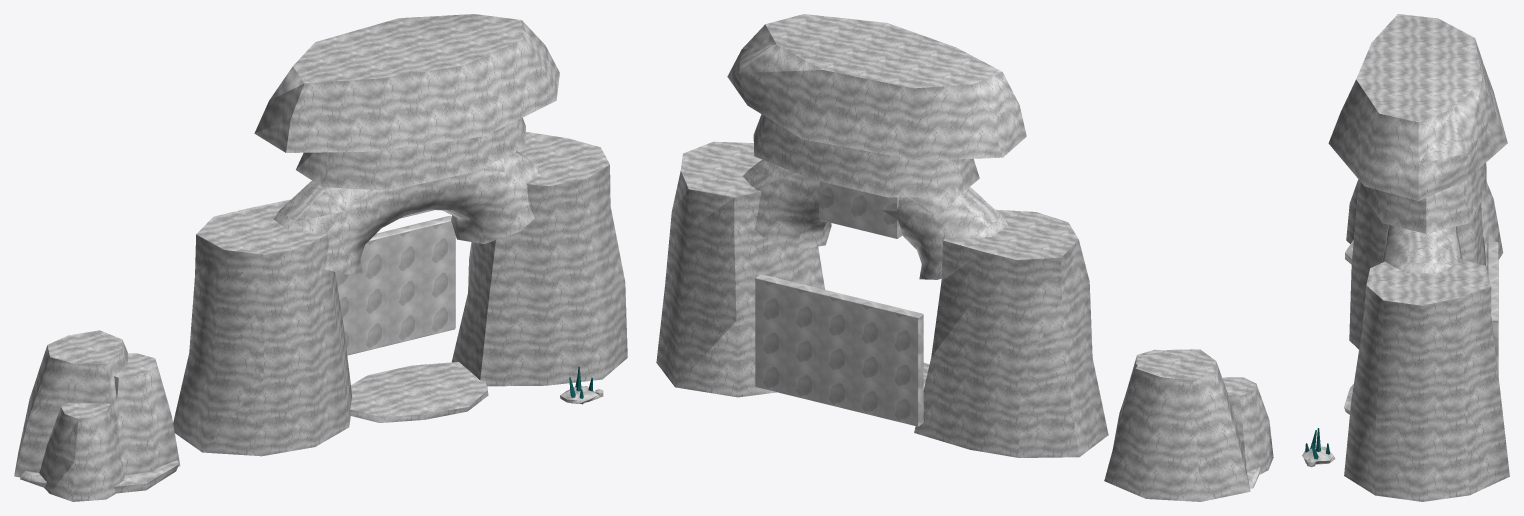
3 renders of one model, left to right at view 1: azimuth 30°, elevation 25°; view 2: azimuth 150°, elevation 25°; view 3: azimuth 270°, elevation 25°, orthographic. The views are drawn at different scales.
Visible parts, largest first — view 1: DL015_CaveEntranceKit_stone_blue, DL015_CaveEntranceKit_stone_warm, DL015_CaveEntranceKit_shadow_blue, DL015_CaveEntranceKit_sediment; view 2: DL015_CaveEntranceKit_stone_blue, DL015_CaveEntranceKit_stone_warm, DL015_CaveEntranceKit_shadow_blue; view 3: DL015_CaveEntranceKit_stone_warm, DL015_CaveEntranceKit_stone_blue, DL015_CaveEntranceKit_shadow_blue, DL015_CaveEntranceKit_emissive_teal, DL015_CaveEntranceKit_sediment.
Boxes of the visible parts, bbox=[...] form: DL015_CaveEntranceKit_stone_blue: bbox=[14, 117, 599, 501]; DL015_CaveEntranceKit_stone_warm: bbox=[114, 14, 627, 475]; DL015_CaveEntranceKit_shadow_blue: bbox=[335, 209, 455, 355]; DL015_CaveEntranceKit_sediment: bbox=[20, 362, 488, 493]; DL015_CaveEntranceKit_stone_blue: bbox=[743, 114, 1273, 501]; DL015_CaveEntranceKit_stone_warm: bbox=[656, 14, 1164, 447]; DL015_CaveEntranceKit_shadow_blue: bbox=[755, 181, 923, 426]; DL015_CaveEntranceKit_stone_warm: bbox=[1328, 14, 1509, 501]; DL015_CaveEntranceKit_stone_blue: bbox=[1302, 163, 1503, 464]; DL015_CaveEntranceKit_shadow_blue: bbox=[1487, 242, 1498, 375]; DL015_CaveEntranceKit_emissive_teal: bbox=[1305, 428, 1329, 464]; DL015_CaveEntranceKit_sediment: bbox=[1344, 239, 1353, 414].
Size of the model in its own units: 18.04 by 10 by 5.6.
Materials: 6 (5 with a texture image).
